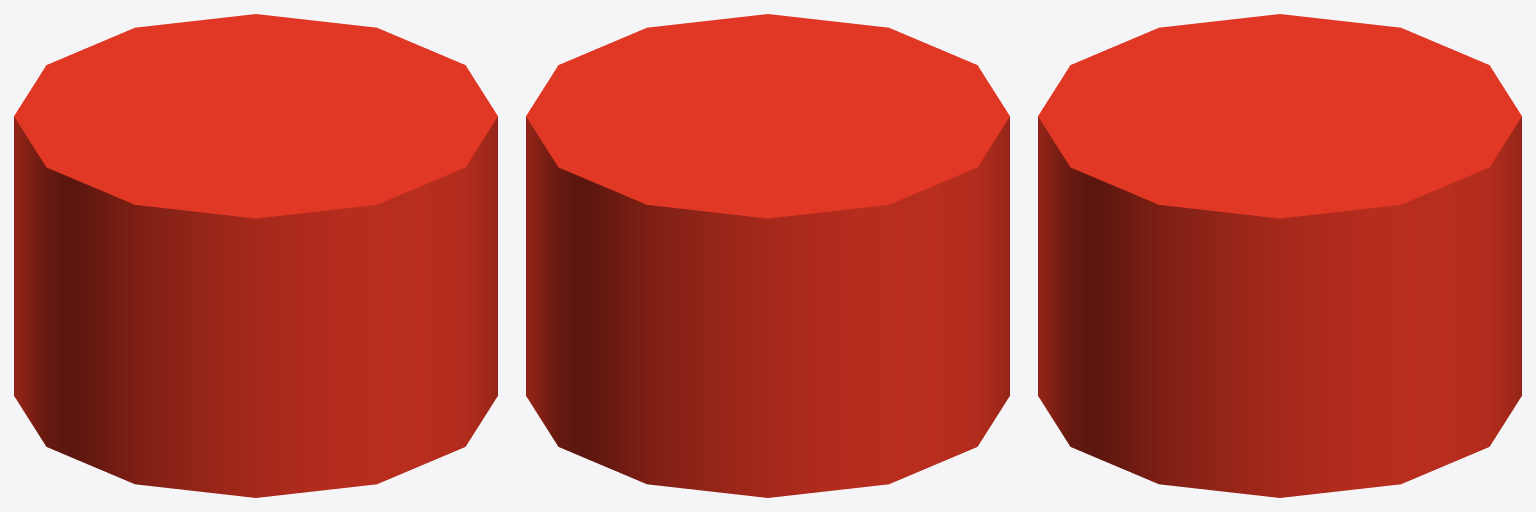
File: decor_courtyard_fountain_collision.glb
The picture shows the model from 3 angles, left to right: view 1: azimuth 30°, elevation 25°; view 2: azimuth 150°, elevation 25°; view 3: azimuth 270°, elevation 25°; orthographic projection.
Visible parts, largest first — view 1: decor_courtyard_fountain-col; view 2: decor_courtyard_fountain-col; view 3: decor_courtyard_fountain-col.
Part boxes in pixels (x1=…): decor_courtyard_fountain-col: x1=14, y1=14, x2=497, y2=497; decor_courtyard_fountain-col: x1=526, y1=14, x2=1009, y2=497; decor_courtyard_fountain-col: x1=1038, y1=14, x2=1521, y2=497.
Bounding box in the file's own units: 2.48 × 1.58 × 2.48.
